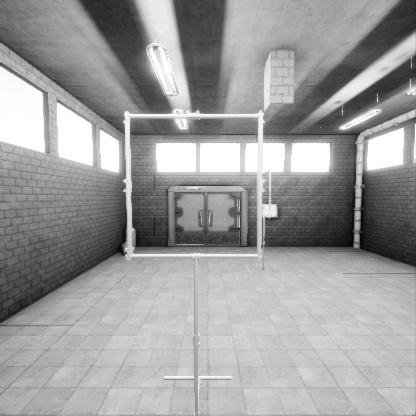gate: (134, 167, 271, 302), (258, 199, 271, 248)
